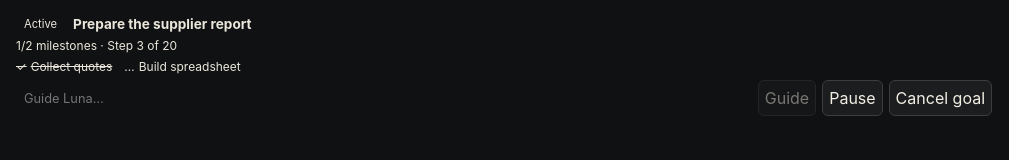
Test: Dot Goals UI › shows progress and lets the owner guide, pause and cancel with confirmation
Expected: the text "Prepare the supplier report" is shown, [73,16,252,32]
Expected: the text "1/2 milestones · Step 3 of 20" is shown, [16,38,177,53]
Type "Prefer EU suppliers" into the field named "Guide Luna's goal". click: (384, 98)
box: [16,80,752,116]
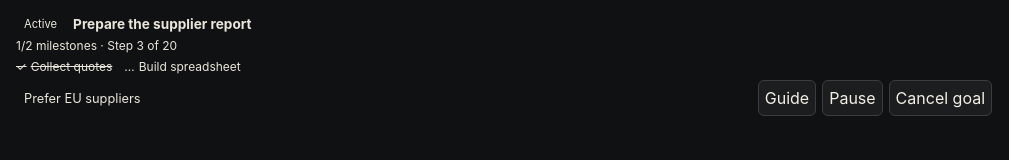
Click the button "Guide". click: (787, 98)
box: [758,80,816,116]
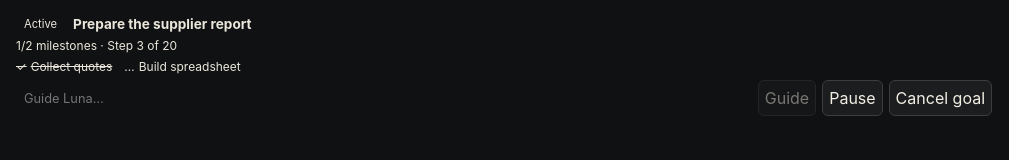
Click the button "Pause". click: (852, 98)
box: [822,80,883,116]
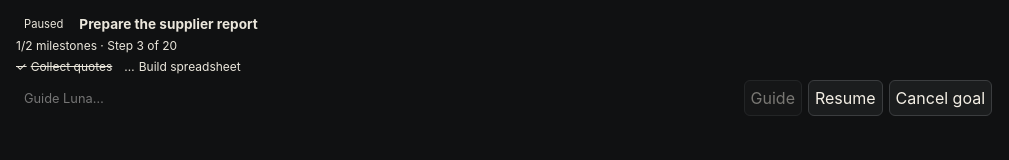
Now the button "Resume" is shown, box [808,80,883,116]
Click the button "Cancel goal". click: (940, 98)
box: [889,80,992,116]
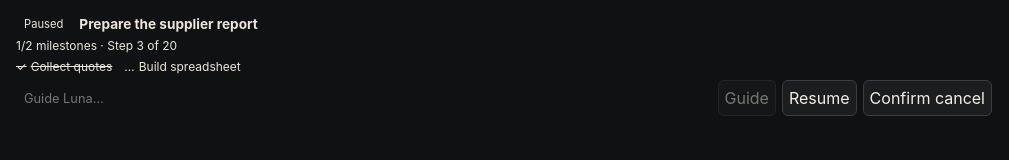
Click the button "Confirm cancel". click: (927, 98)
box: [863,80,992,116]
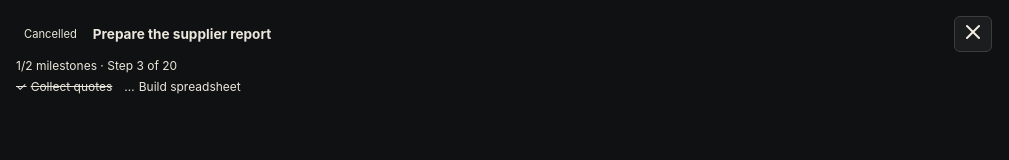
Now the text "Cancelled" is shown, box [24,27,77,41]
